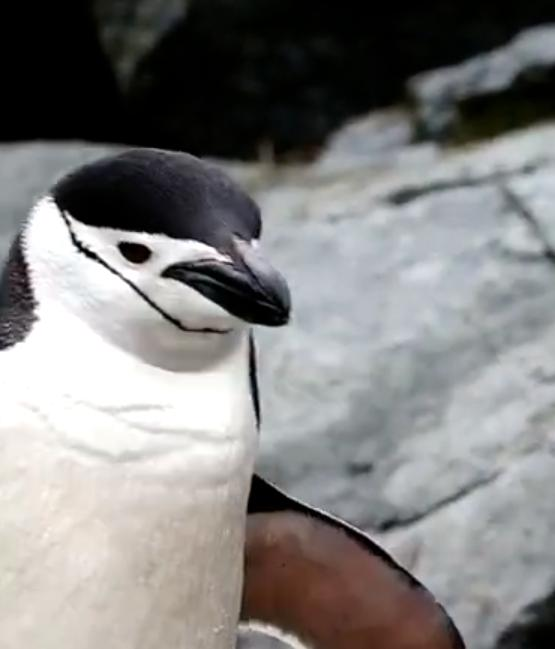Chinstrap Penguin: (0, 129, 486, 649)
